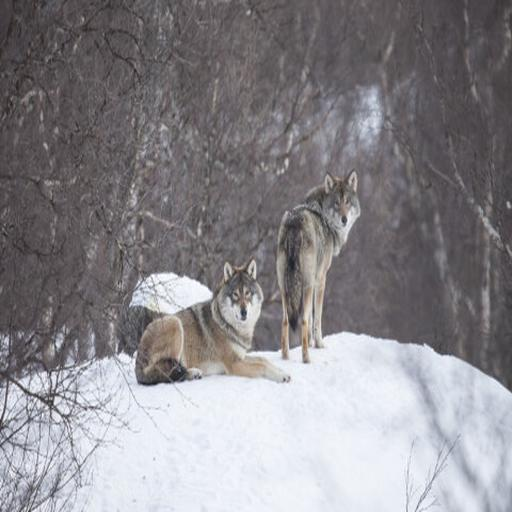Wolf: (130, 254, 291, 386), (276, 171, 365, 362)
